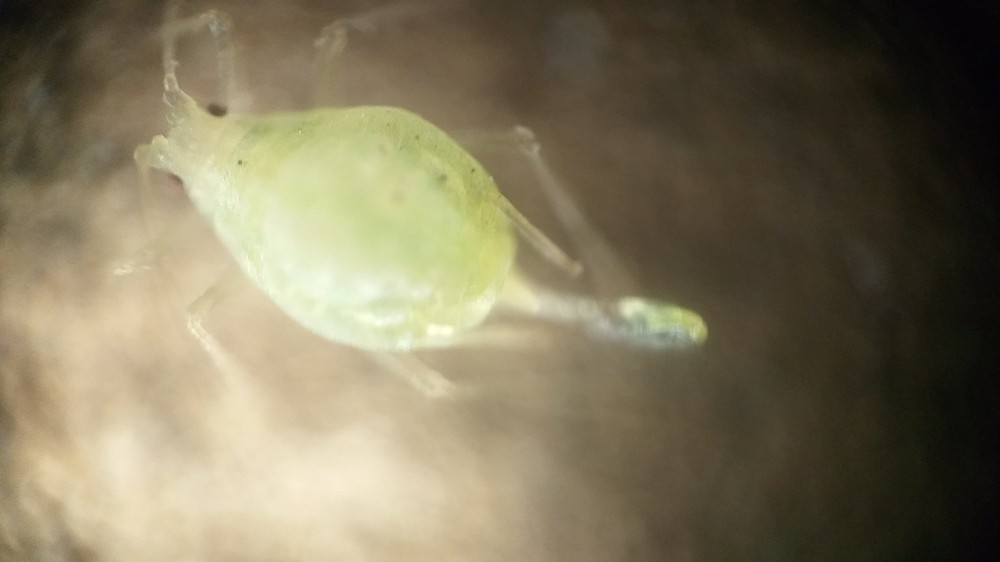Pulgon: (109, 21, 707, 439)
